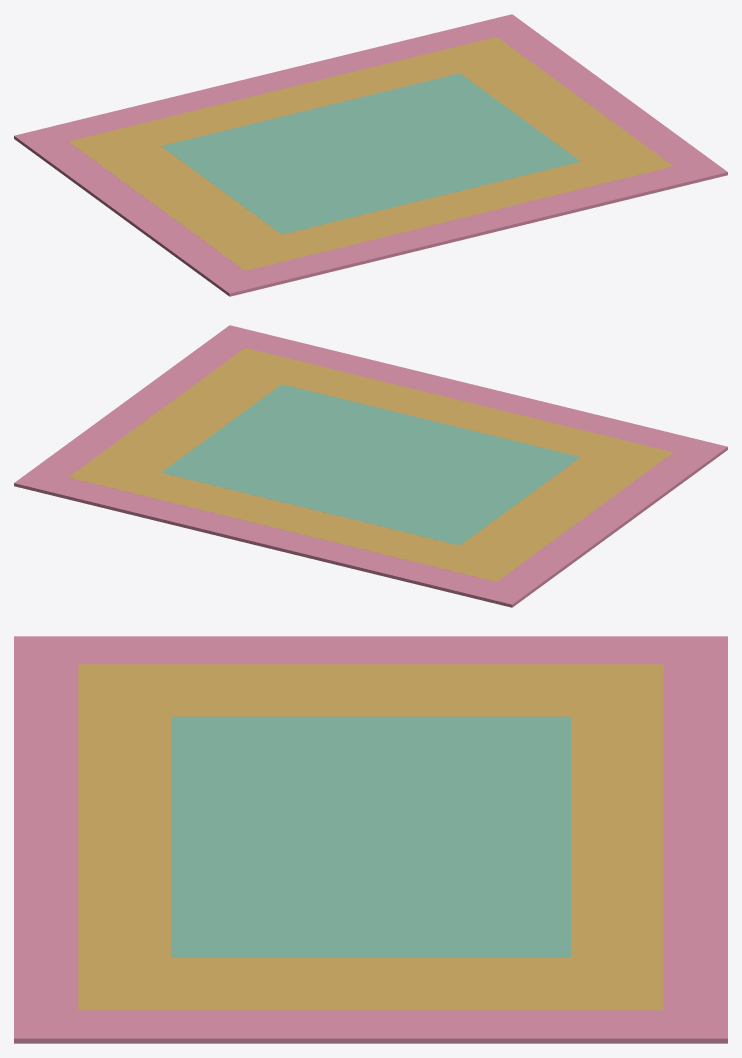
File: rug.glb
3 renders of one model, top to bottom at view 1: azimuth 30°, elevation 25°; view 2: azimuth 150°, elevation 25°; view 3: azimuth 270°, elevation 25°, orthographic. The views are drawn at different scales.
Parts seen in each view (by area): view 1: rug; view 2: rug; view 3: rug.
Part boxes in pixels (<box>): rug: <box>14,14,727,296</box>; rug: <box>14,325,727,607</box>; rug: <box>14,636,727,1043</box>.
Size of the model in its own units: 160 by 1 by 120.
